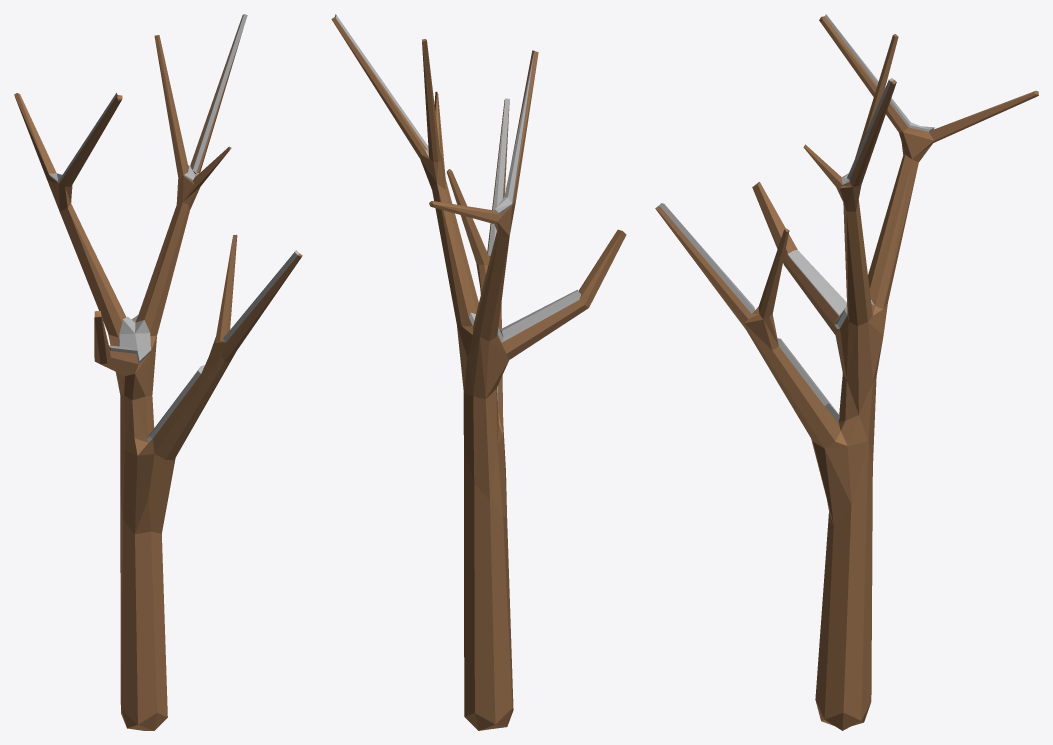
File: Tree_3 Winter.fbx
The picture shows the model from 3 angles, left to right: view 1: azimuth 30°, elevation 25°; view 2: azimuth 150°, elevation 25°; view 3: azimuth 270°, elevation 25°; orthographic projection. The views are drawn at different scales.
Visible parts, largest first — view 1: Tree3Winter_mesh; view 2: Tree3Winter_mesh; view 3: Tree3Winter_mesh.
Part boxes in pixels (x1,y1,x2,y2): Tree3Winter_mesh: [14, 14, 302, 730]; Tree3Winter_mesh: [331, 14, 626, 730]; Tree3Winter_mesh: [655, 14, 1038, 730].
Size of the model in its own units: 181 by 532 by 259.
